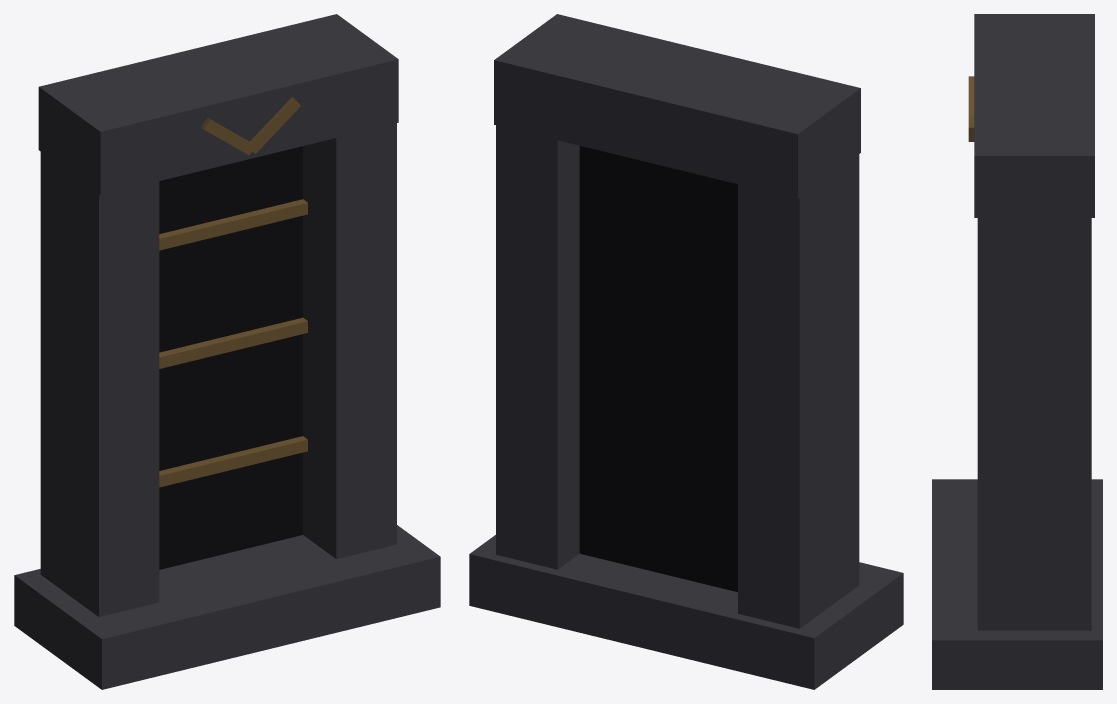
The model's file is SM_Window_DwarvenSlit_08.glb.
3 views of the same model, side by side, from view 1: azimuth 30°, elevation 25°; view 2: azimuth 150°, elevation 25°; view 3: azimuth 270°, elevation 25° (orthographic). The views are drawn at different scales.
Parts seen in each view (by area): view 1: SM_Window_DwarvenSlit_08_Frame, SM_Window_DwarvenSlit_08_Glass, SM_Window_DwarvenSlit_08_Lintel, SM_Window_DwarvenSlit_08_JambR, SM_Window_DwarvenSlit_08_Sill, SM_Window_DwarvenSlit_08_GrilleBar3, SM_Window_DwarvenSlit_08_GrilleBar2, SM_Window_DwarvenSlit_08_GrilleBar1, SM_Window_DwarvenSlit_08_ChevronTop_R, SM_Window_DwarvenSlit_08_ChevronTop_L; view 2: SM_Window_DwarvenSlit_08_Glass, SM_Window_DwarvenSlit_08_Frame, SM_Window_DwarvenSlit_08_Lintel, SM_Window_DwarvenSlit_08_JambR, SM_Window_DwarvenSlit_08_Sill; view 3: SM_Window_DwarvenSlit_08_JambR, SM_Window_DwarvenSlit_08_Lintel, SM_Window_DwarvenSlit_08_Sill, SM_Window_DwarvenSlit_08_ChevronTop_L.
Boxes of the visible parts, x1=… form: SM_Window_DwarvenSlit_08_Frame: x1=40, y1=152, x2=159, y2=616; SM_Window_DwarvenSlit_08_Glass: x1=159, y1=146, x2=302, y2=569; SM_Window_DwarvenSlit_08_Lintel: x1=38, y1=14, x2=398, y2=195; SM_Window_DwarvenSlit_08_JambR: x1=303, y1=123, x2=396, y2=558; SM_Window_DwarvenSlit_08_Sill: x1=14, y1=525, x2=440, y2=689; SM_Window_DwarvenSlit_08_GrilleBar3: x1=159, y1=199, x2=307, y2=250; SM_Window_DwarvenSlit_08_GrilleBar2: x1=159, y1=317, x2=307, y2=368; SM_Window_DwarvenSlit_08_GrilleBar1: x1=159, y1=436, x2=307, y2=487; SM_Window_DwarvenSlit_08_ChevronTop_R: x1=250, y1=97, x2=300, y2=153; SM_Window_DwarvenSlit_08_ChevronTop_L: x1=201, y1=118, x2=255, y2=155; SM_Window_DwarvenSlit_08_Glass: x1=579, y1=146, x2=737, y2=592; SM_Window_DwarvenSlit_08_Frame: x1=738, y1=154, x2=859, y2=628; SM_Window_DwarvenSlit_08_Lintel: x1=494, y1=14, x2=860, y2=198; SM_Window_DwarvenSlit_08_JambR: x1=496, y1=125, x2=579, y2=569; SM_Window_DwarvenSlit_08_Sill: x1=469, y1=535, x2=903, y2=689; SM_Window_DwarvenSlit_08_JambR: x1=977, y1=218, x2=1091, y2=630; SM_Window_DwarvenSlit_08_Lintel: x1=974, y1=14, x2=1094, y2=217; SM_Window_DwarvenSlit_08_Sill: x1=932, y1=479, x2=1102, y2=689; SM_Window_DwarvenSlit_08_ChevronTop_L: x1=968, y1=76, x2=974, y2=116.
Bounding box in the file's own units: 0.67 × 1.02 × 0.3.
